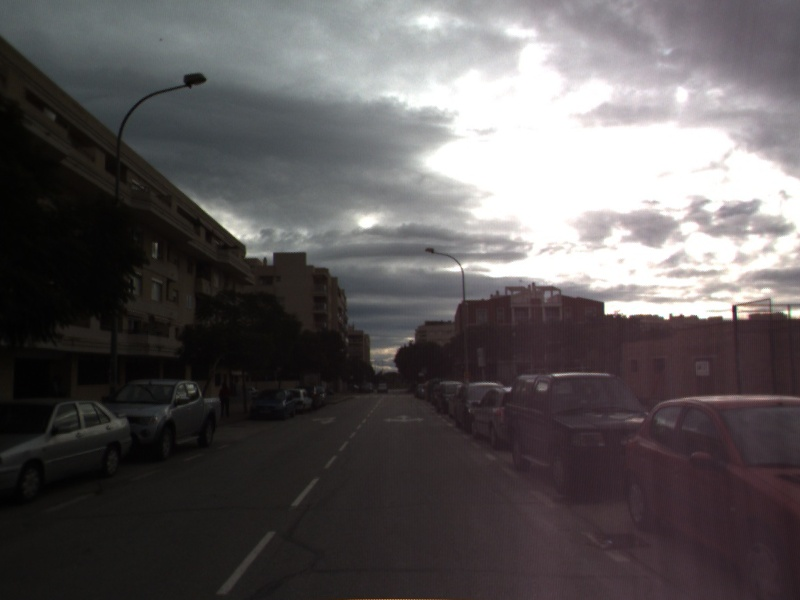STRAIGHT_LEFT_RIGHT: (381, 412, 426, 425)
